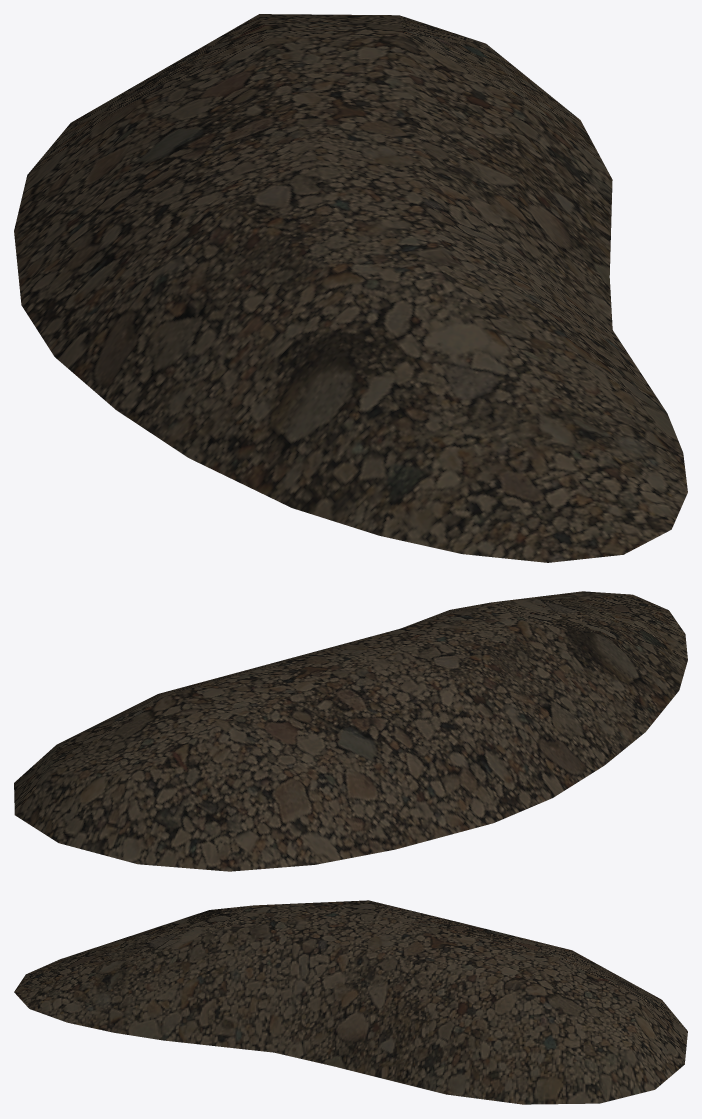
File: gravel_pile_hr_1.obj
3 views of the same model, one above another, from view 1: azimuth 30°, elevation 25°; view 2: azimuth 150°, elevation 25°; view 3: azimuth 270°, elevation 25° (orthographic). The views are drawn at different scales.
Visible parts, largest first — view 1: gravel_pile_hr_1; view 2: gravel_pile_hr_1; view 3: gravel_pile_hr_1.
Boxes of the visible parts, bbox=[...] form: gravel_pile_hr_1: bbox=[14, 14, 687, 562]; gravel_pile_hr_1: bbox=[14, 591, 687, 871]; gravel_pile_hr_1: bbox=[14, 900, 687, 1104].
Bounding box in the file's own units: 1.17 × 0.2567 × 1.9.
